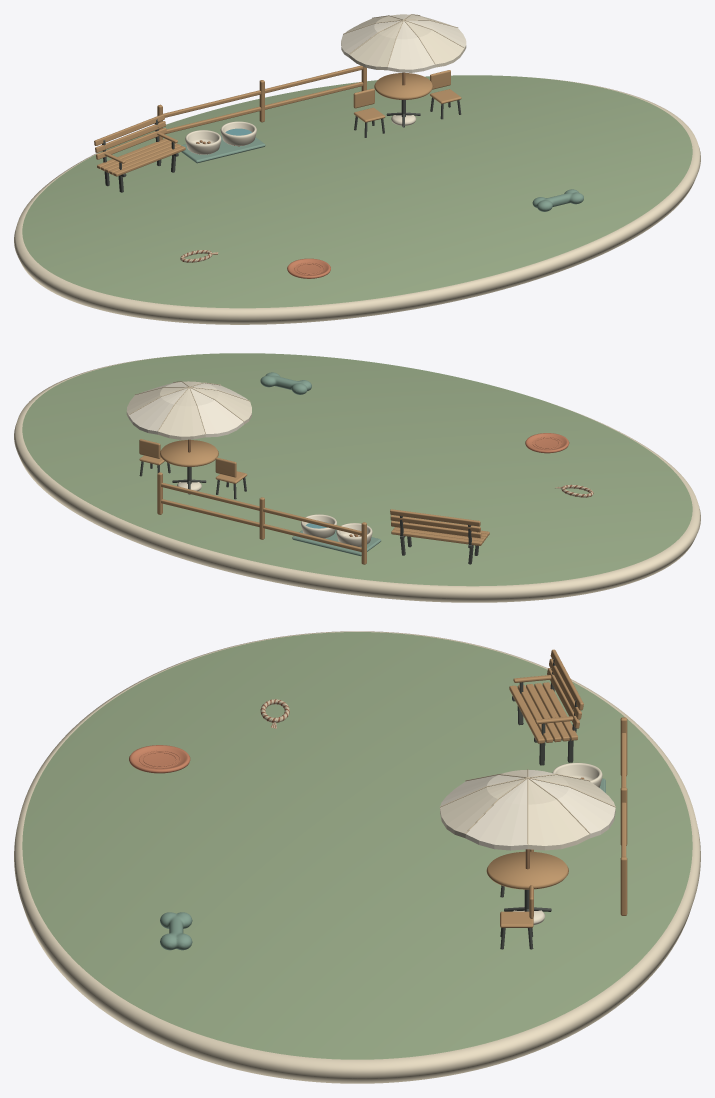
File: yard-furniture.glb
The picture shows the model from 3 angles, top to bottom: view 1: azimuth 30°, elevation 25°; view 2: azimuth 150°, elevation 25°; view 3: azimuth 270°, elevation 25°; orthographic projection. The views are drawn at different scales.
Visible parts, largest first — view 1: Lawn surface, Lawn edge, Yard oak, Warm ivory ceramic, Agility cream, Warm graphite, Sage silicone, Disc grip ring, Soft bone chew, Natural cotton; view 2: Lawn surface, Lawn edge, Yard oak, Warm ivory ceramic, Agility cream, Warm graphite, Disc grip ring, Soft bone chew, Sage silicone, Natural cotton; view 3: Lawn surface, Lawn edge, Yard oak, Warm ivory ceramic, Agility cream, Disc grip ring, Warm graphite, Soft bone chew, Natural cotton.
Part boxes in pixels (left/top/right/bottom): Lawn surface: left=22, top=75, right=692, bottom=308; Lawn edge: left=14, top=77, right=700, bottom=324; Yard oak: left=94, top=65, right=461, bottom=176; Warm ivory ceramic: left=185, top=15, right=464, bottom=154; Agility cream: left=341, top=14, right=466, bottom=72; Warm graphite: left=102, top=97, right=461, bottom=192; Sage silicone: left=181, top=135, right=265, bottom=163; Disc grip ring: left=287, top=258, right=330, bottom=278; Soft bone chew: left=532, top=189, right=583, bottom=211; Natural cotton: left=343, top=14, right=464, bottom=66; Lawn surface: left=22, top=353, right=692, bottom=586; Lawn edge: left=14, top=355, right=700, bottom=602; Yard oak: left=139, top=439, right=489, bottom=564; Warm ivory ceramic: left=126, top=381, right=372, bottom=546; Agility cream: left=128, top=382, right=247, bottom=437; Warm graphite: left=139, top=461, right=478, bottom=564; Disc grip ring: left=525, top=433, right=569, bottom=453; Soft bone chew: left=260, top=372, right=311, bottom=394; Sage silicone: left=292, top=529, right=381, bottom=556; Natural cotton: left=129, top=381, right=250, bottom=433; Lawn surface: left=22, top=632, right=692, bottom=1059; Lawn edge: left=14, top=631, right=700, bottom=1083; Yard oak: left=486, top=649, right=627, bottom=927; Warm ivory ceramic: left=440, top=762, right=614, bottom=924; Agility cream: left=440, top=770, right=615, bottom=850; Disc grip ring: left=129, top=745, right=190, bottom=773; Warm graphite: left=500, top=658, right=577, bottom=949; Soft bone chew: left=160, top=912, right=192, bottom=950; Natural cotton: left=440, top=769, right=615, bottom=844.
Bounding box in the file's own units: 18.86 × 3.34 × 12.5.
